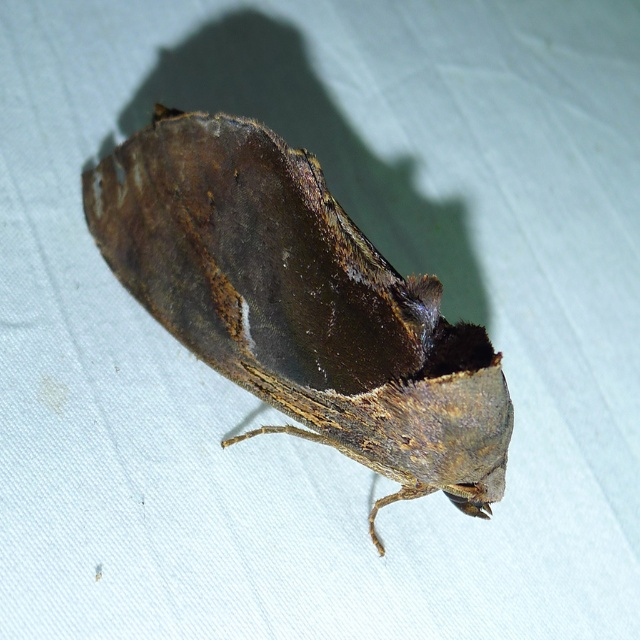Moths and butterflies: (79, 101, 514, 562)
